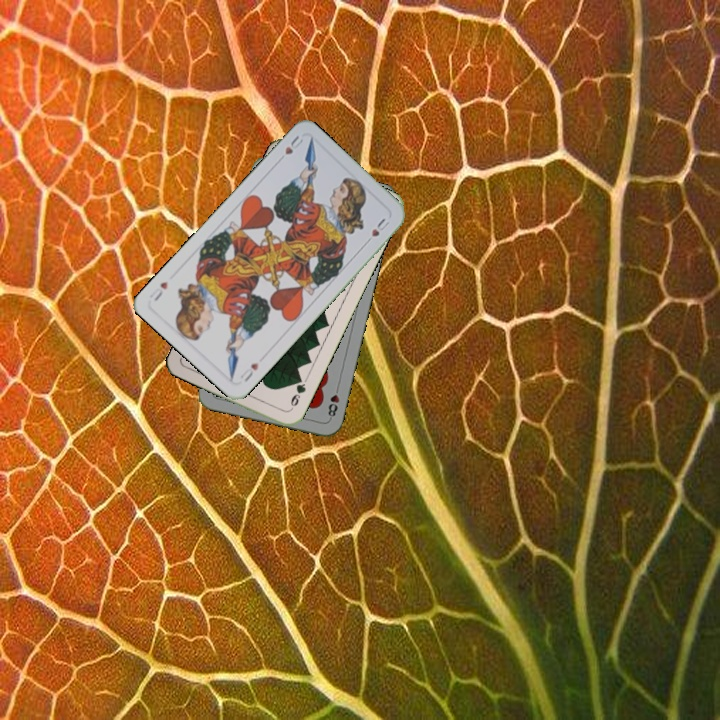G9: (286, 373, 308, 413)
H8: (324, 382, 342, 422)
HU: (236, 358, 262, 384), (281, 131, 306, 157)
